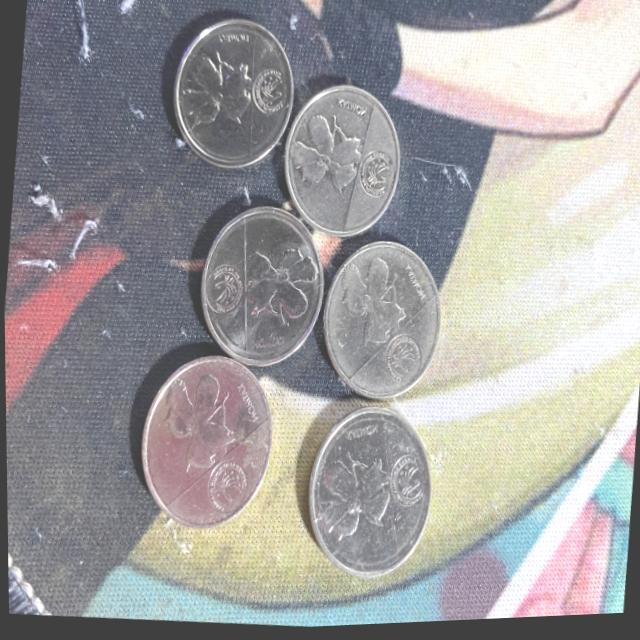25Cent_New_Back: (148, 358, 250, 489), (172, 32, 264, 150), (308, 444, 397, 555), (236, 227, 321, 342), (331, 246, 414, 359), (284, 104, 369, 208)
